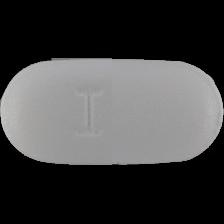12634-682: (0, 0, 224, 224)
